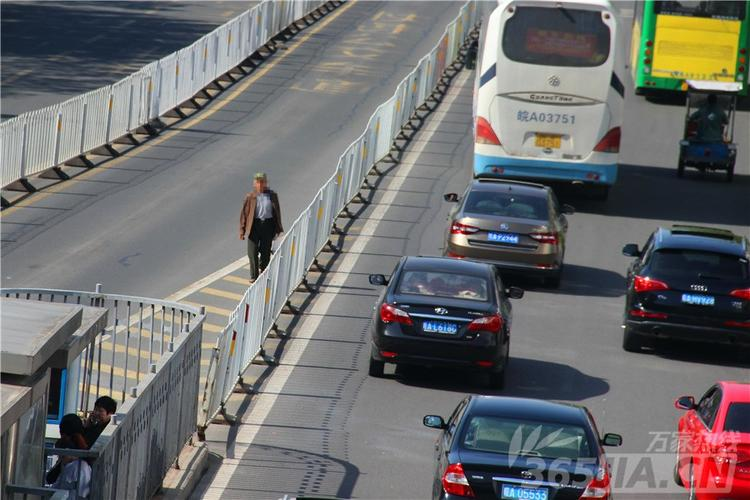bus: (472, 0, 626, 199), (634, 1, 749, 104)
car: (366, 256, 526, 388), (423, 394, 622, 500), (620, 223, 750, 360), (442, 176, 574, 288), (673, 380, 749, 500), (671, 80, 743, 175)
person: (238, 174, 284, 281), (48, 410, 87, 500), (87, 393, 116, 443)
